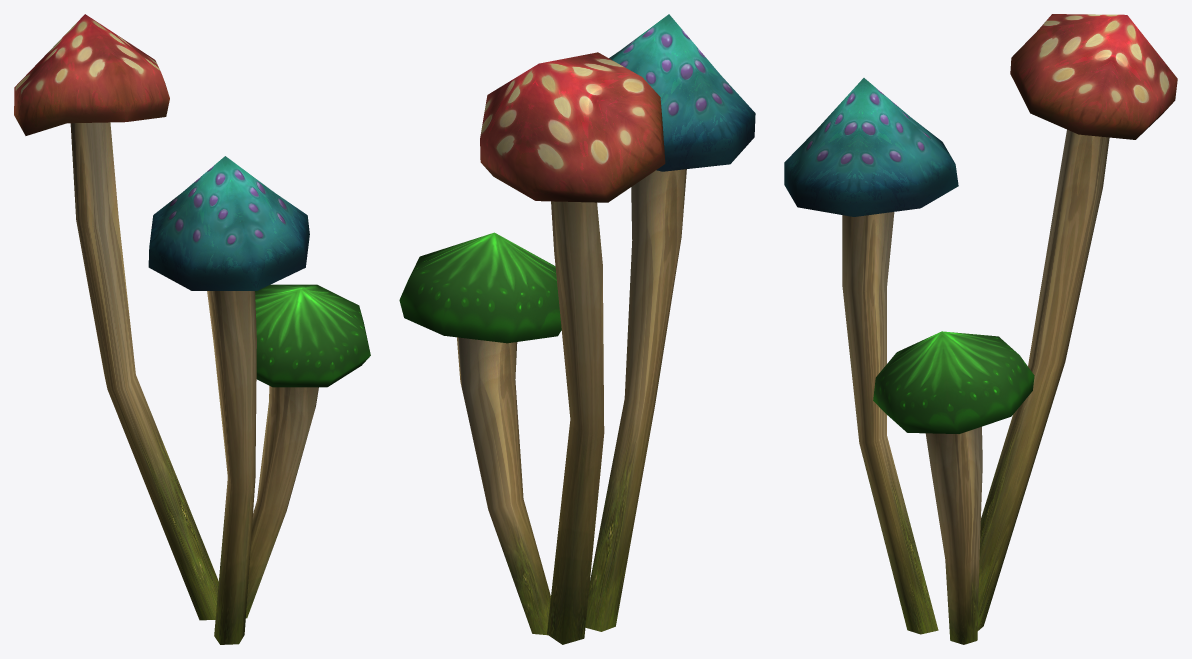
Rendered from SL_mogu05.FBX.
3 renders of one model, left to right at view 1: azimuth 30°, elevation 25°; view 2: azimuth 150°, elevation 25°; view 3: azimuth 270°, elevation 25°, orthographic. The views are drawn at different scales.
Visible parts, largest first — view 1: 对象287, 对象286, 对象288; view 2: 对象287, 对象286, 对象288; view 3: 对象287, 对象286, 对象288.
Boxes of the visible parts, box(x1,y1,x2,y2) form: 对象287: box(14, 14, 218, 620); 对象286: box(148, 156, 309, 644); 对象288: box(245, 284, 370, 618); 对象287: box(480, 52, 665, 644); 对象286: box(585, 14, 755, 631); 对象288: box(399, 232, 561, 635); 对象287: box(977, 14, 1177, 630); 对象286: box(784, 78, 958, 634); 对象288: box(873, 331, 1034, 644).
Size of the model in its own units: 50.08 by 96.59 by 58.28.
